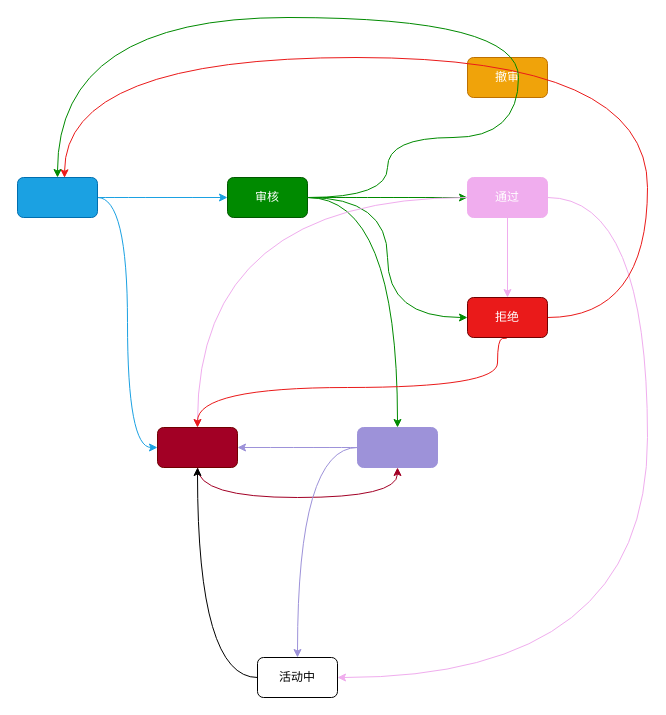
The diagram is 666 pixels wide and 715 high, and some of its shapes have lost their labels. Here are the shapes that lost their labels. From the top down, the centre of each, then its label:
[57,197]: 编辑
[197,447]: 关闭
[397,447]: 开启
